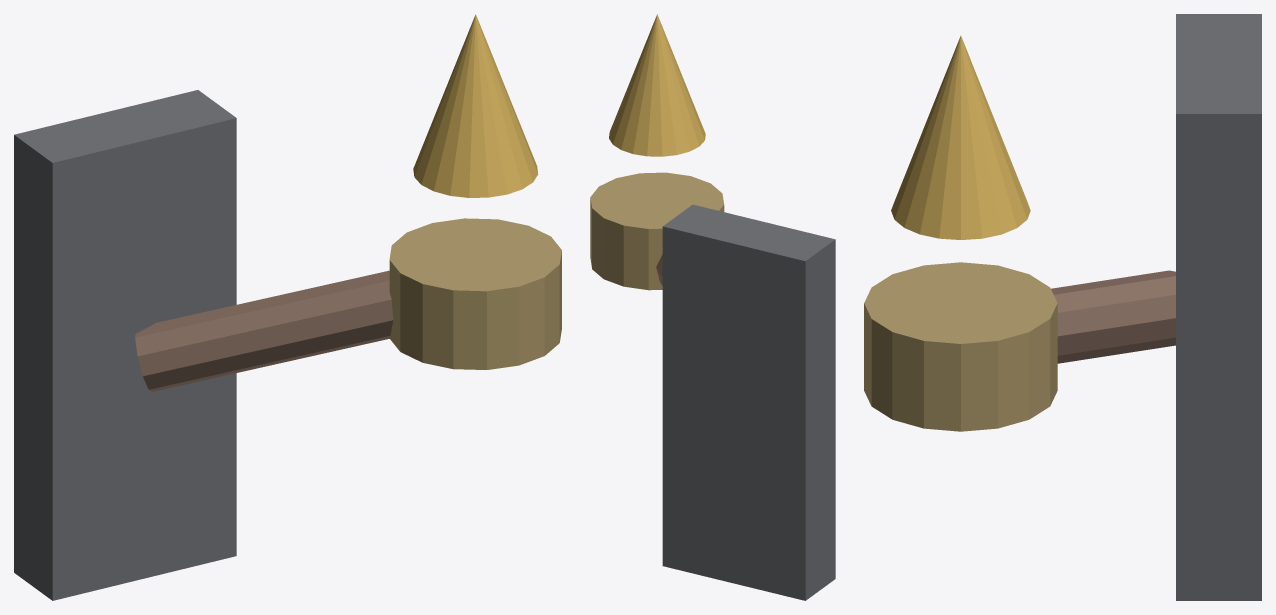
File: WallTorch_Gothic.glb
3 views of the same model, side by side, from view 1: azimuth 30°, elevation 25°; view 2: azimuth 150°, elevation 25°; view 3: azimuth 270°, elevation 25° (orthographic). The views are drawn at different scales.
Visible parts, largest first — view 1: Plaque, Cup, Bracket, Flame; view 2: Plaque, Cup, Flame; view 3: Plaque, Cup, Flame, Bracket.
Boxes of the visible parts, <box> form: Plaque: <box>14,90,236,600</box>; Cup: <box>389,218,561,369</box>; Bracket: <box>135,270,393,391</box>; Flame: <box>413,14,538,197</box>; Plaque: <box>662,204,835,600</box>; Cup: <box>590,172,724,290</box>; Flame: <box>609,14,705,156</box>; Plaque: <box>1176,14,1261,600</box>; Cup: <box>864,262,1057,431</box>; Flame: <box>891,35,1030,239</box>; Bracket: <box>1051,270,1175,363</box>.
Size of the model in its own units: 0.48 by 0.66 by 0.37.
